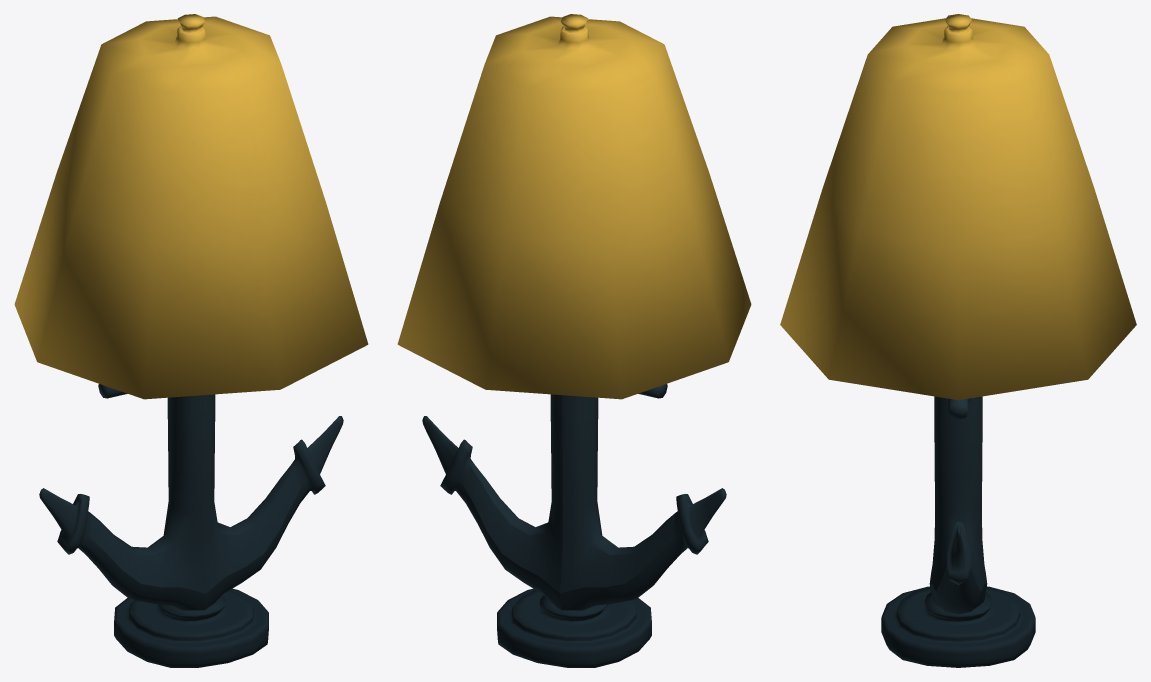
Rendered from AnkerLamp.fbx.
The picture shows the model from 3 angles, left to right: view 1: azimuth 30°, elevation 25°; view 2: azimuth 150°, elevation 25°; view 3: azimuth 270°, elevation 25°; orthographic projection.
Visible parts, largest first — view 1: AnkerLampemmissive, AnkerLamp; view 2: AnkerLampemmissive, AnkerLamp; view 3: AnkerLampemmissive, AnkerLamp.
Boxes of the visible parts, x1=… form: AnkerLampemmissive: x1=14, y1=14, x2=368, y2=399; AnkerLamp: x1=39, y1=384, x2=343, y2=667; AnkerLampemmissive: x1=397, y1=14, x2=751, y2=399; AnkerLamp: x1=422, y1=384, x2=726, y2=667; AnkerLampemmissive: x1=780, y1=14, x2=1136, y2=400; AnkerLamp: x1=881, y1=396, x2=1035, y2=667.
Size of the model in its own units: 35.39 by 67.62 by 35.39.
